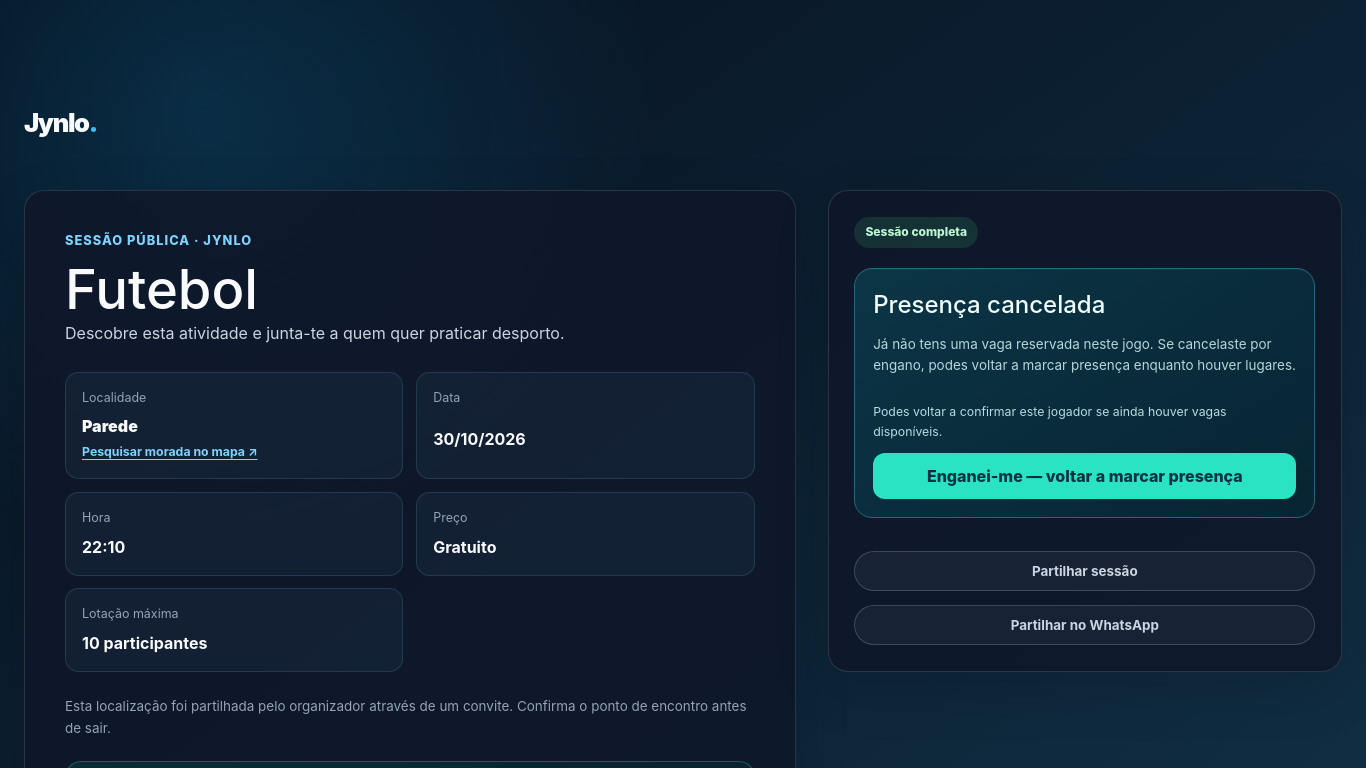
Test: PublicSessionPreviewComponent › does not restore a cancelled guest if their released place was taken
Click the button with class "guest-rejoin-button" at (1085,476), box [873,453,1296,499]
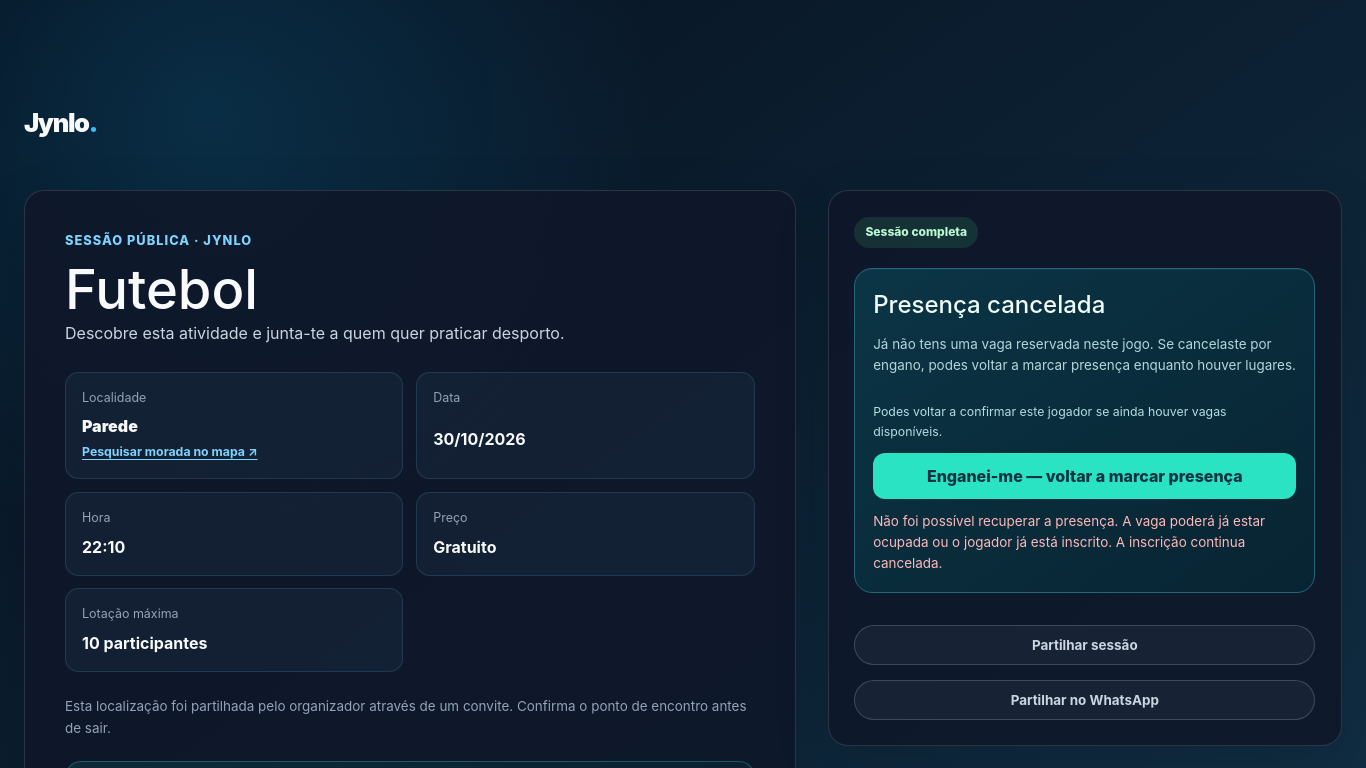
Now the message with class "guest-rsvp-error" shows "Não foi possível recuperar a presença", box [873,513,1265,571]
